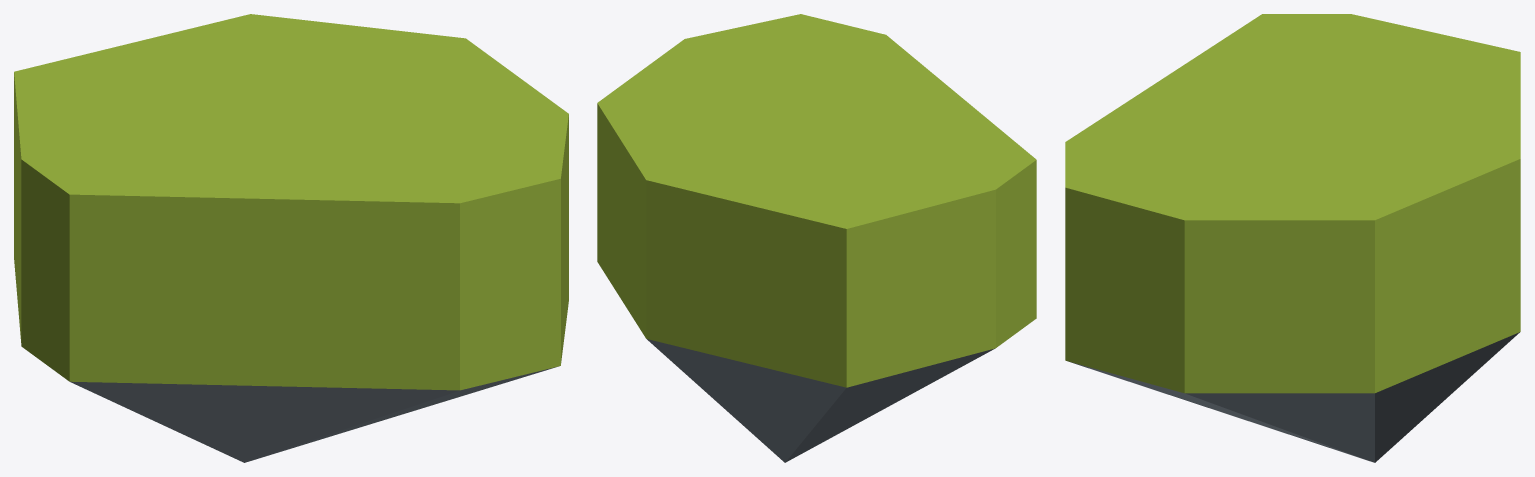
File: floating_island.glb
The picture shows the model from 3 angles, left to right: view 1: azimuth 30°, elevation 25°; view 2: azimuth 150°, elevation 25°; view 3: azimuth 270°, elevation 25°; orthographic projection. The views are drawn at different scales.
Bounding box in the file's own units: 18.36 × 14.22 × 17.13.
